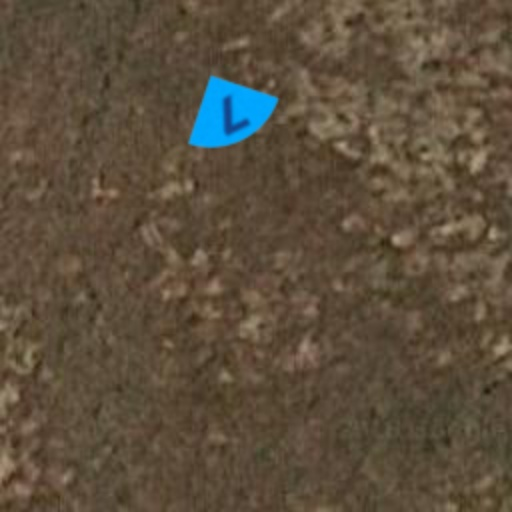quarter_circle: (164, 48, 296, 180)
